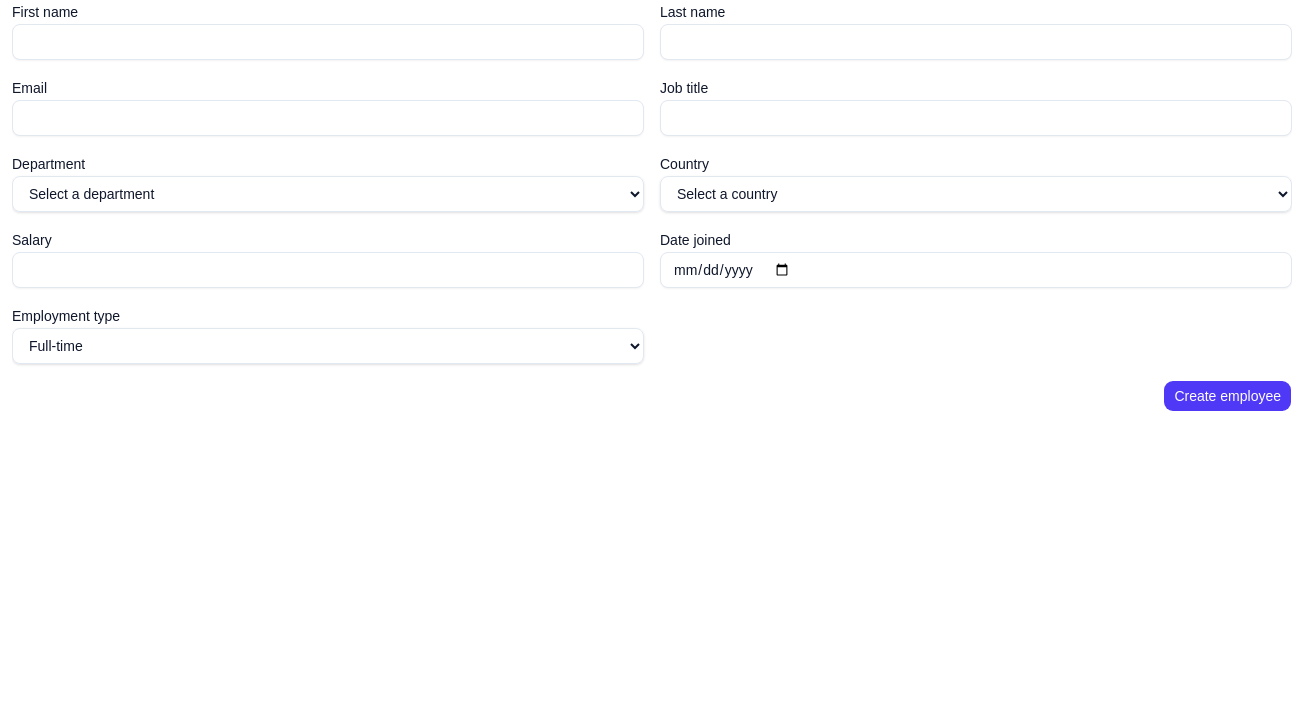
Test: EmployeeForm › blocks submission when required fields are missing
Click the button "Create employee": (1228, 396) [1163,380,1292,412]
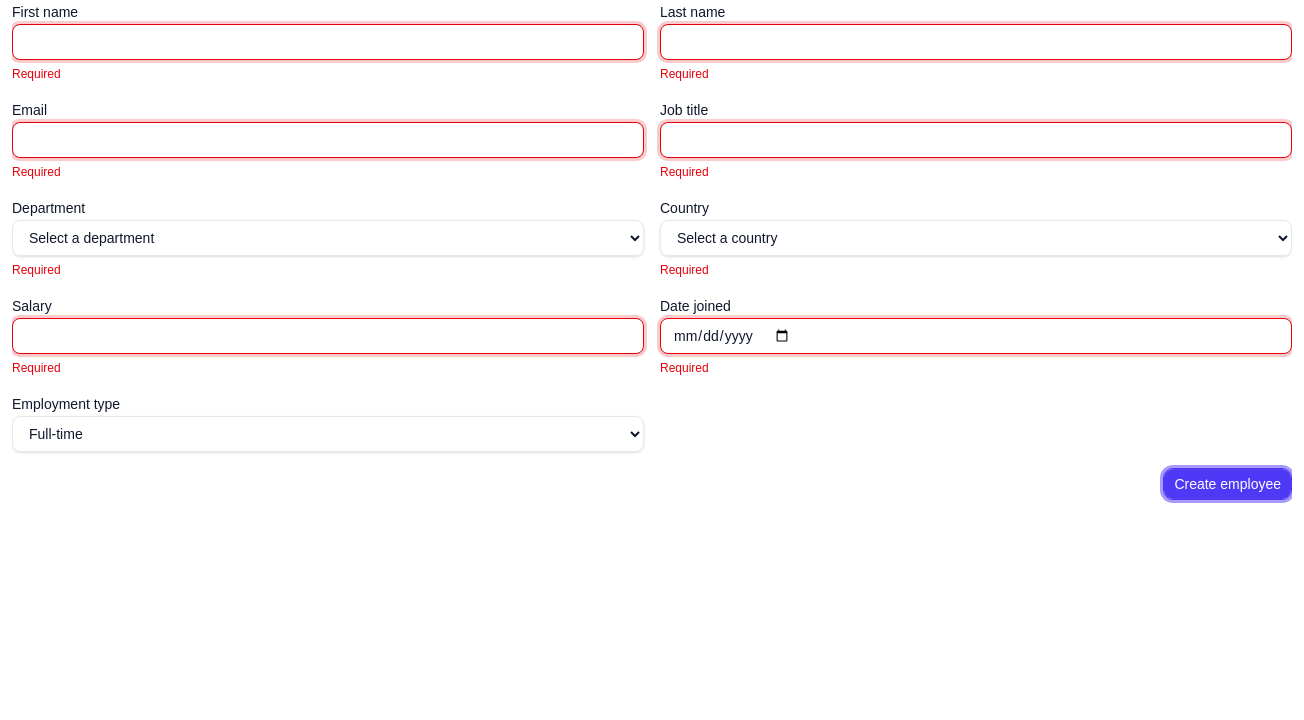
Expected: the text "Required" below "First name" is shown, [12,67,61,81]
